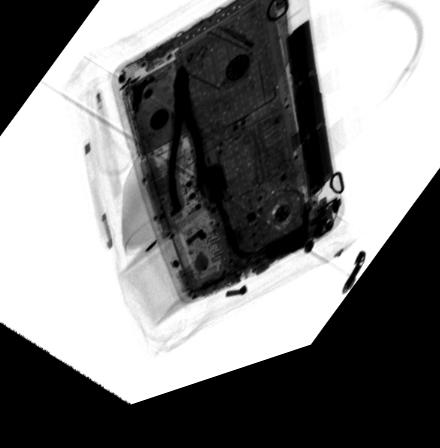Pliers: (167, 75, 207, 227)
